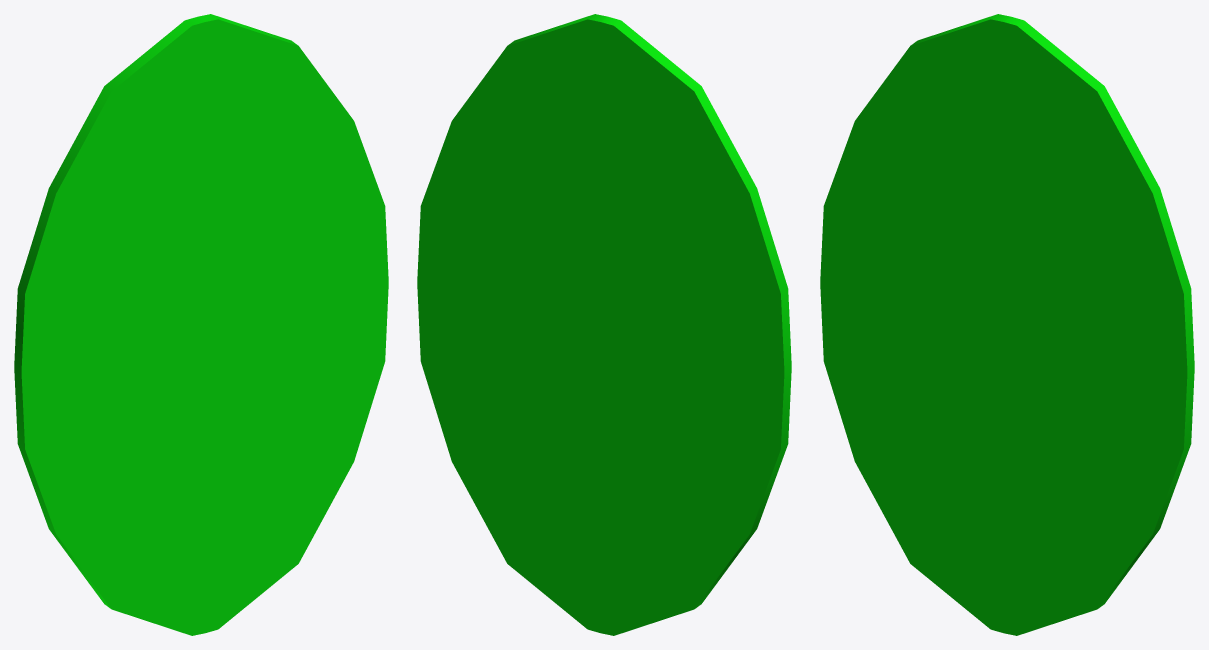
The model's file is oval_08_b.glb.
The picture shows the model from 3 angles, left to right: view 1: azimuth 30°, elevation 25°; view 2: azimuth 150°, elevation 25°; view 3: azimuth 330°, elevation 25°; orthographic projection.
Parts seen in each view (by area): view 1: longboat_039-mesh; view 2: longboat_039-mesh; view 3: longboat_039-mesh.
Boxes of the visible parts, box(x1,y1,x2,y2) form: longboat_039-mesh: box(14, 14, 388, 635); longboat_039-mesh: box(417, 14, 791, 635); longboat_039-mesh: box(820, 14, 1194, 635).
Size of the model in its own units: 1.33 by 2.12 by 0.0461.
